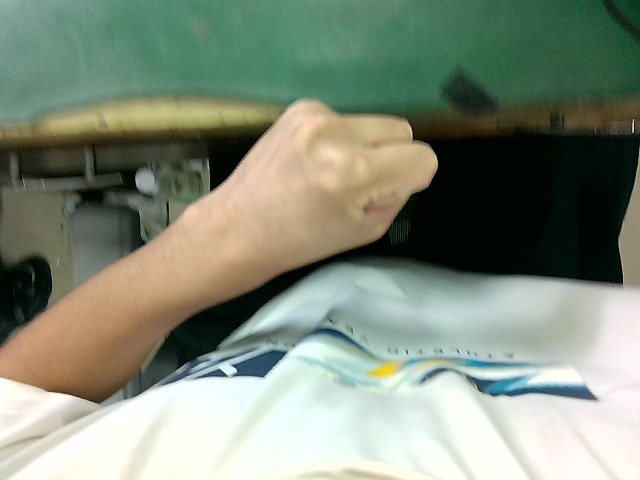stone: (188, 82, 452, 272)
